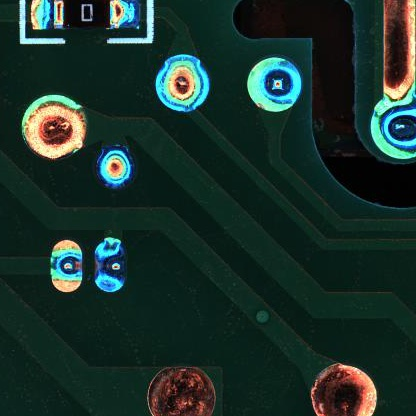spot: (156, 52, 213, 114), (245, 55, 305, 113), (370, 97, 416, 161), (93, 236, 127, 293), (51, 239, 84, 294), (96, 146, 137, 190)
